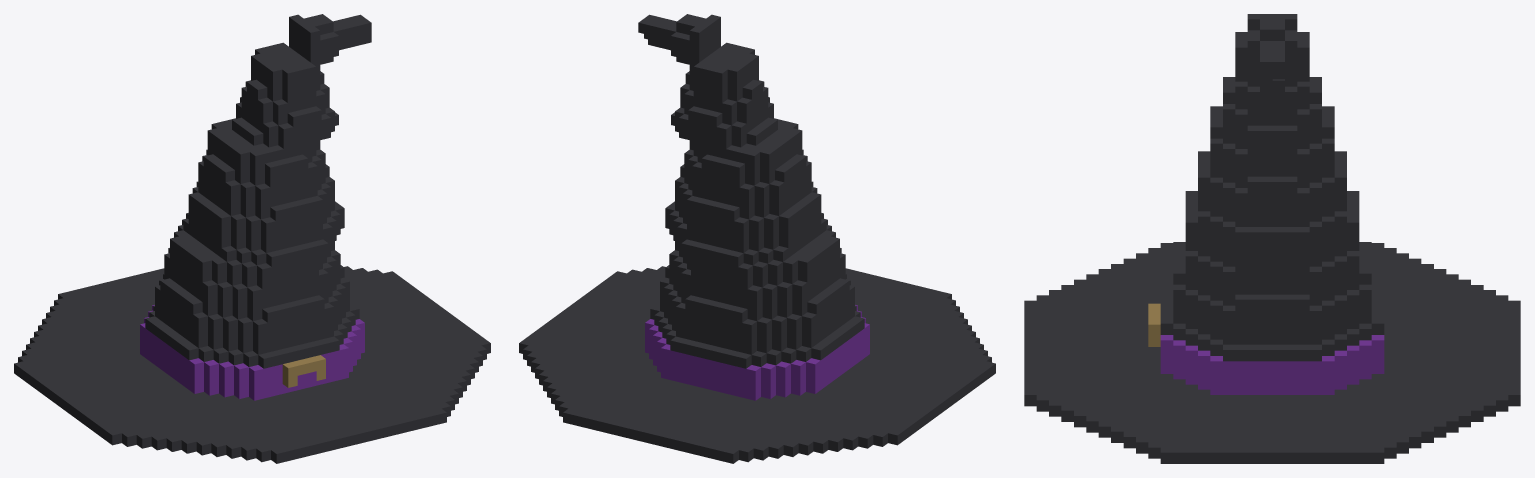
Rendered from pointed_hat.glb.
3 views of the same model, side by side, from view 1: azimuth 30°, elevation 25°; view 2: azimuth 150°, elevation 25°; view 3: azimuth 270°, elevation 25° (orthographic). The views are drawn at different scales.
Visible parts, largest first — view 1: pointed_hat:compound; view 2: pointed_hat:compound; view 3: pointed_hat:compound.
Part boxes in pixels (x1=…): pointed_hat:compound: x1=14, y1=14, x2=490, y2=463; pointed_hat:compound: x1=519, y1=14, x2=995, y2=463; pointed_hat:compound: x1=1024, y1=14, x2=1520, y2=463.
Bounding box in the file's own units: 0.4 × 0.33 × 0.4.
